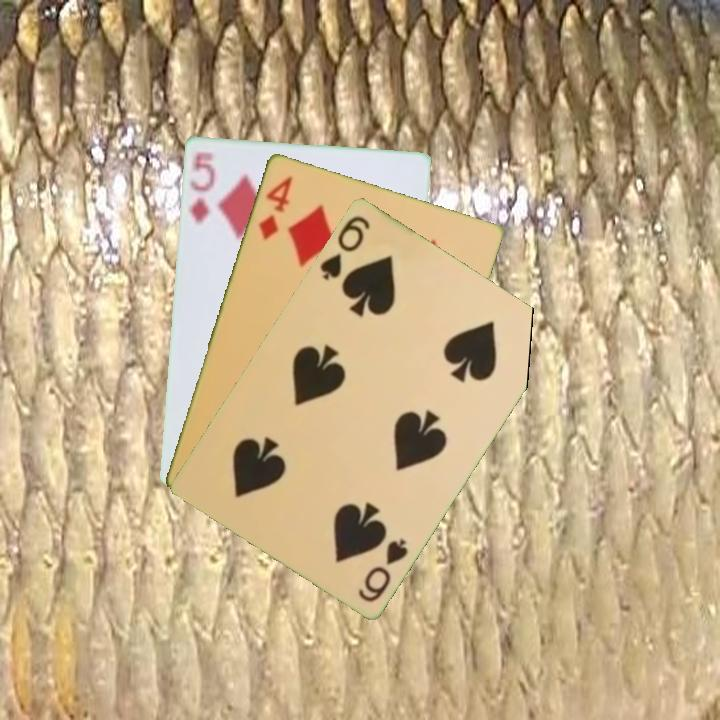4d: (254, 171, 295, 243)
5d: (185, 147, 218, 225)
6s: (316, 211, 373, 283), (354, 534, 411, 605)
